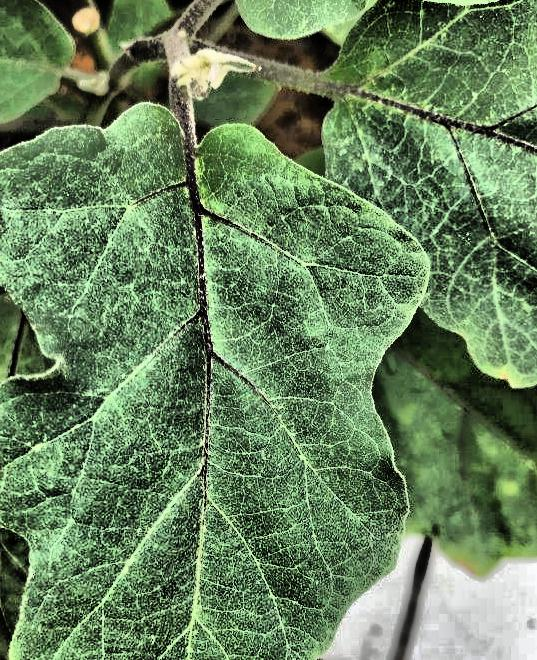HEALTHY: (36, 0, 537, 481)
